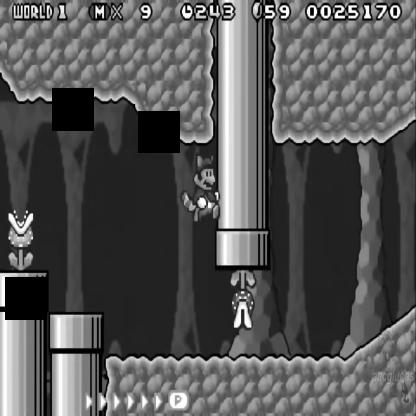Mario: (183, 153, 224, 224)
planta carnivora: (5, 203, 36, 271), (230, 262, 257, 334)
